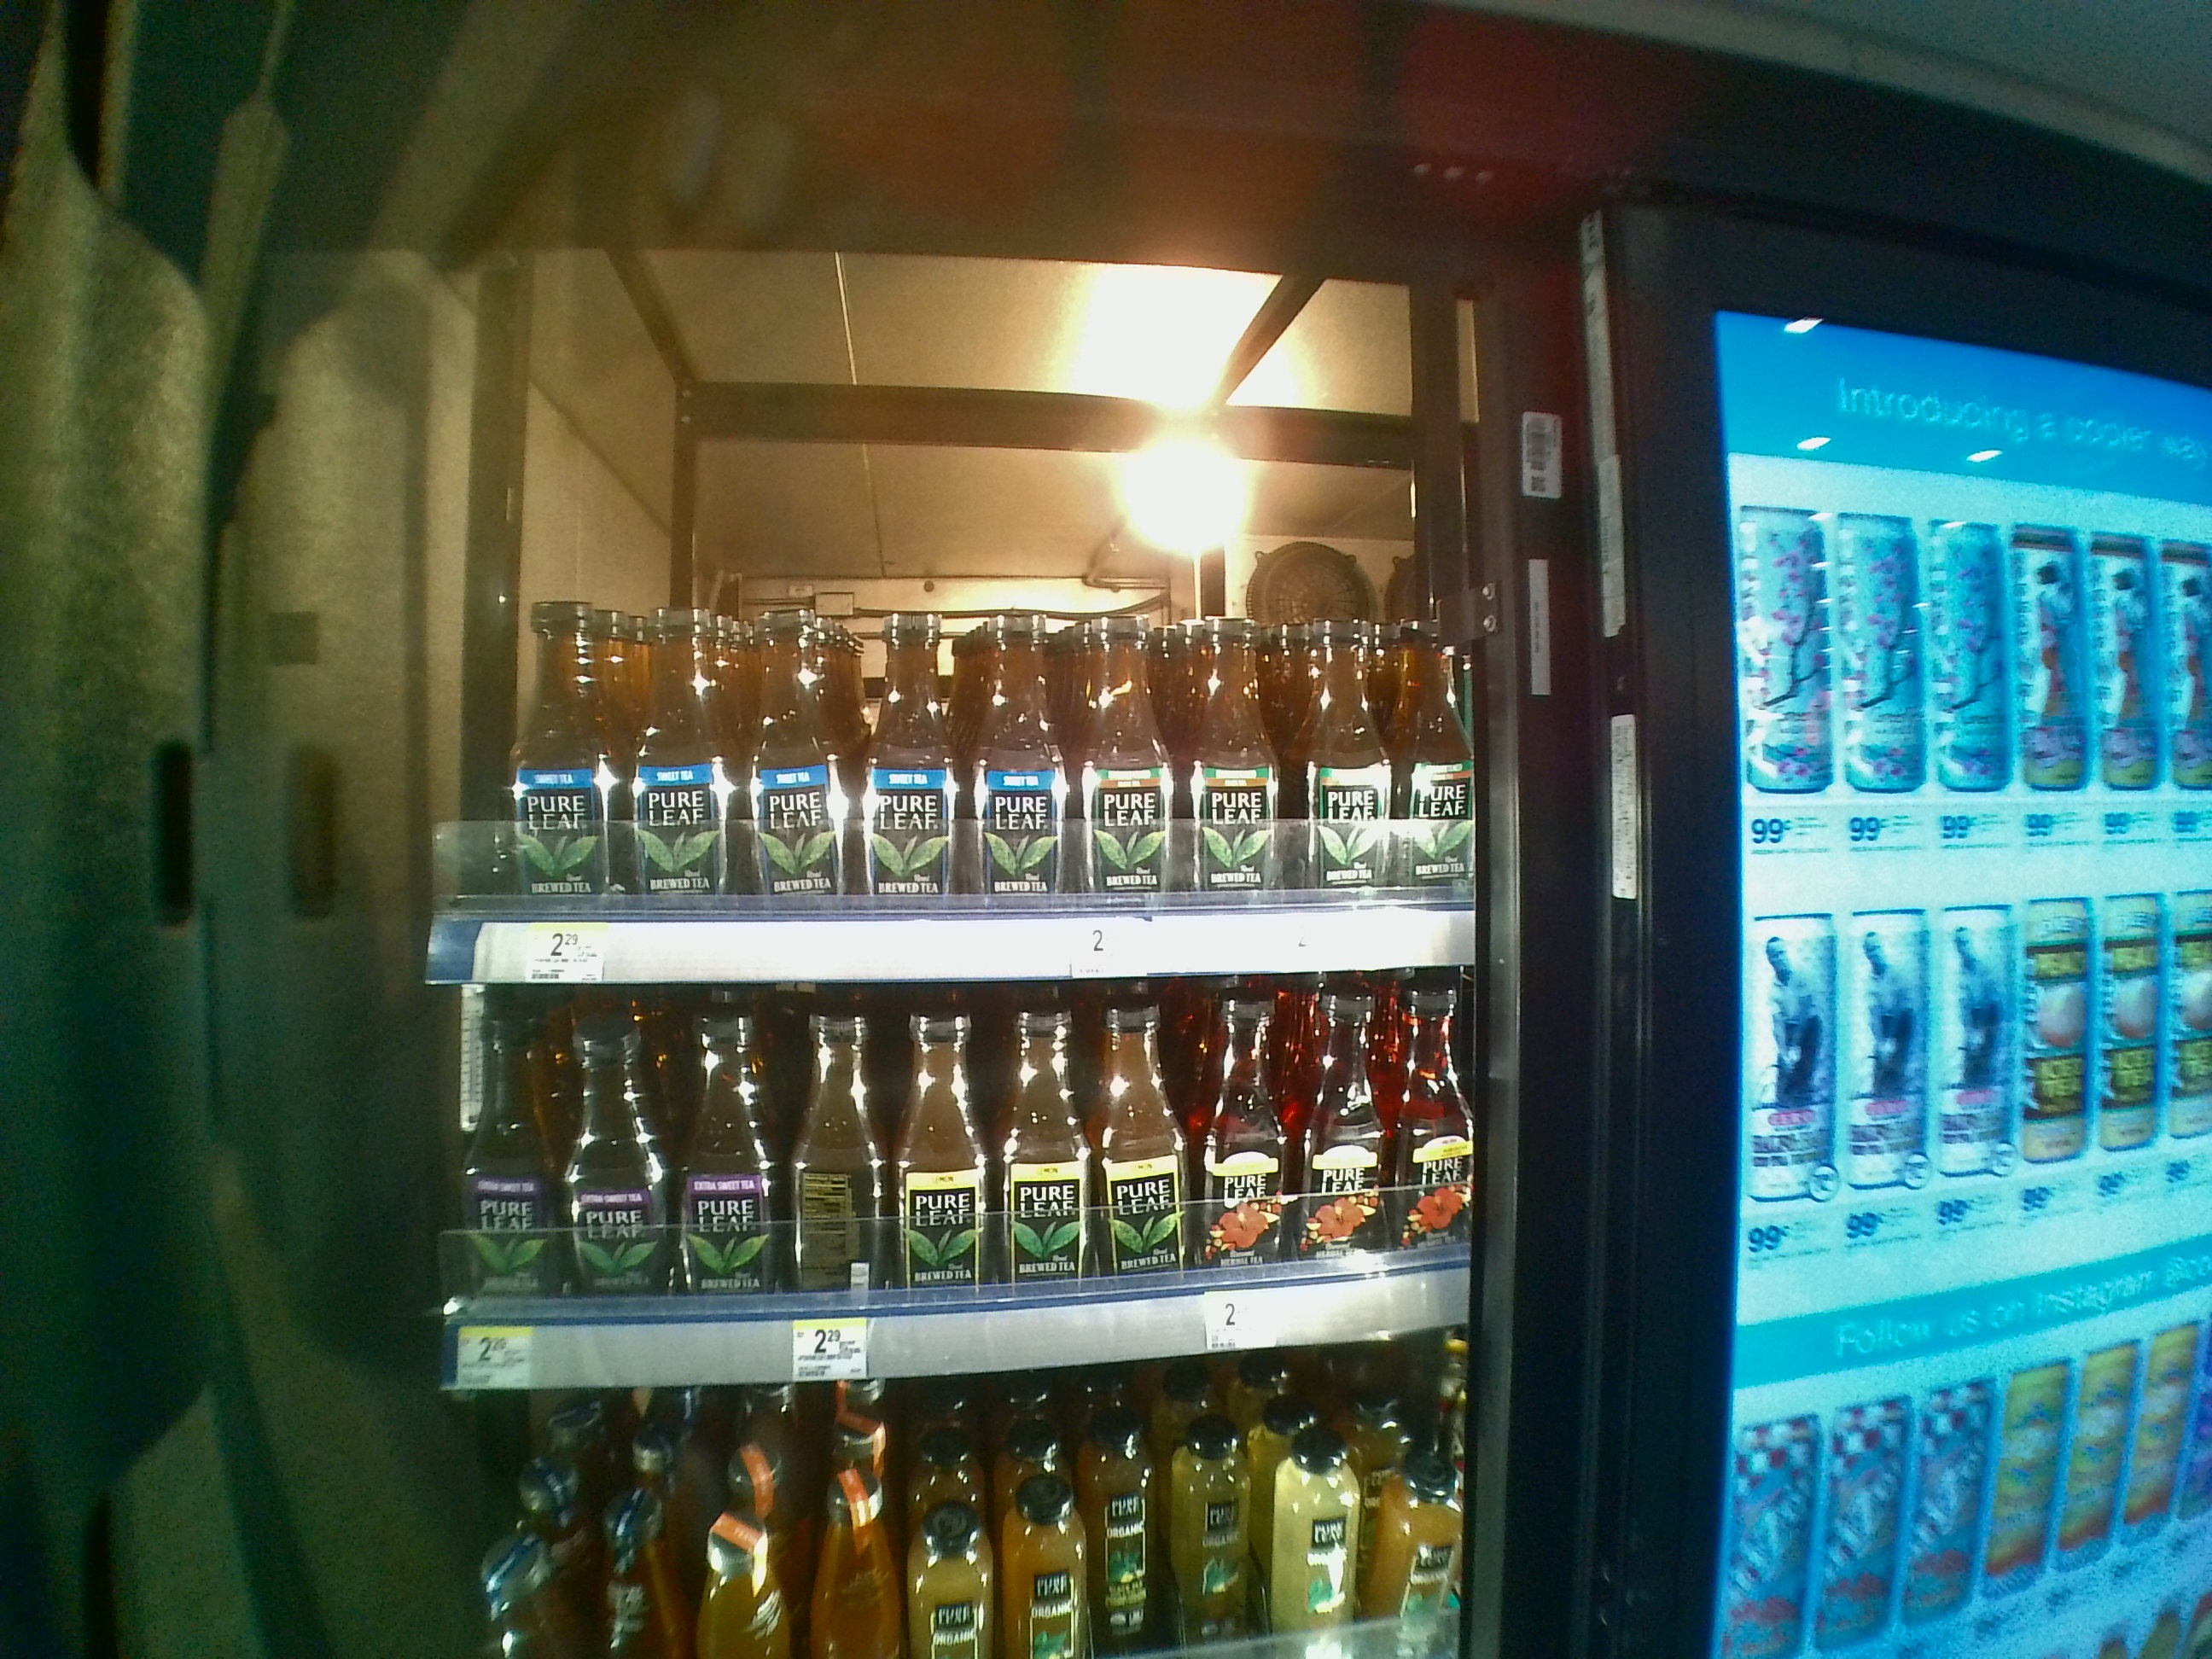shelf: (427, 345, 1475, 988), (427, 997, 1480, 1391)
